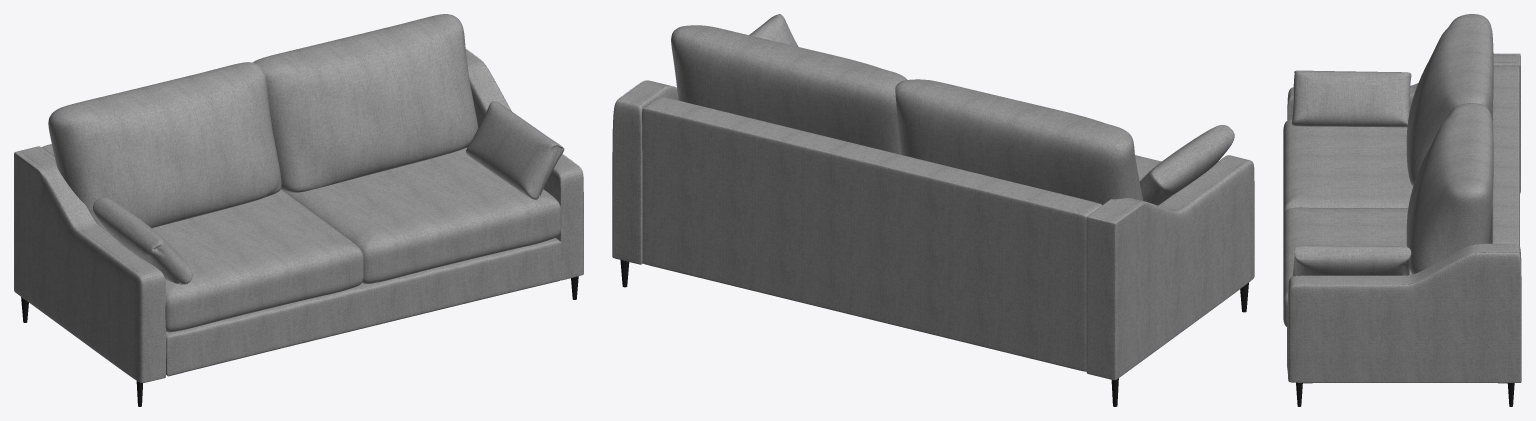
File: 2arm2seats.glb
The picture shows the model from 3 angles, left to right: view 1: azimuth 30°, elevation 25°; view 2: azimuth 150°, elevation 25°; view 3: azimuth 270°, elevation 25°; orthographic projection. The views are drawn at different scales.
Visible parts, largest first — view 1: Almofada de costa Kaori (×2), Almofada de assento (×2), object 825, estrutura, Almofada de Braço Drt.-CW#4, object 9, Almofada de Braço Esq.-CW#12; view 2: object 826, Almofada de costa Kaori (×2), object 825, object 9, Almofada de Braço Esq.-CW#12, Almofada de Braço Drt.-CW#4; view 3: object 9, Almofada de costa Kaori (×2), Almofada de assento (×2), Almofada de Braço Esq.-CW#12, object 826, Almofada de Braço Drt.-CW#4, object 825.
Part boxes in pixels (x1=…): Almofada de costa Kaori (×2): x1=48, y1=14, x2=478, y2=234; Almofada de assento (×2): x1=152, y1=148, x2=561, y2=332; object 825: x1=14, y1=146, x2=166, y2=382; estrutura: x1=166, y1=238, x2=561, y2=376; Almofada de Braço Drt.-CW#4: x1=466, y1=101, x2=564, y2=199; object 9: x1=465, y1=49, x2=583, y2=280; Almofada de Braço Esq.-CW#12: x1=93, y1=198, x2=192, y2=284; object 826: x1=642, y1=96, x2=1101, y2=371; Almofada de costa Kaori (×2): x1=671, y1=25, x2=1143, y2=204; object 825: x1=1086, y1=155, x2=1254, y2=380; object 9: x1=612, y1=80, x2=678, y2=264; Almofada de Braço Esq.-CW#12: x1=1139, y1=125, x2=1234, y2=205; Almofada de Braço Drt.-CW#4: x1=749, y1=14, x2=798, y2=46; object 9: x1=1287, y1=244, x2=1521, y2=382; Almofada de costa Kaori (×2): x1=1406, y1=14, x2=1493, y2=274; Almofada de assento (×2): x1=1283, y1=119, x2=1412, y2=327; Almofada de Braço Esq.-CW#12: x1=1292, y1=70, x2=1411, y2=127; object 826: x1=1488, y1=66, x2=1519, y2=245; Almofada de Braço Drt.-CW#4: x1=1292, y1=245, x2=1411, y2=276; object 825: x1=1287, y1=53, x2=1520, y2=193.
Bounding box in the file's own units: 2.04 × 0.9723 × 1.02.
3 materials, 1 textured.
